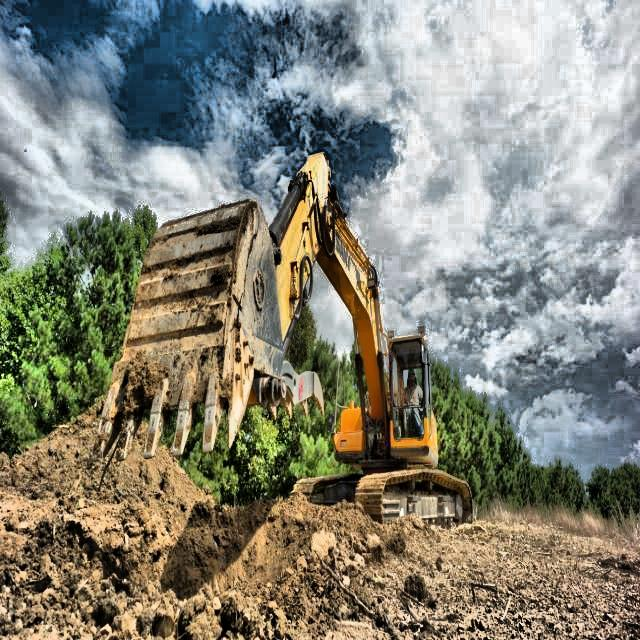excavator: (80, 149, 478, 532)
